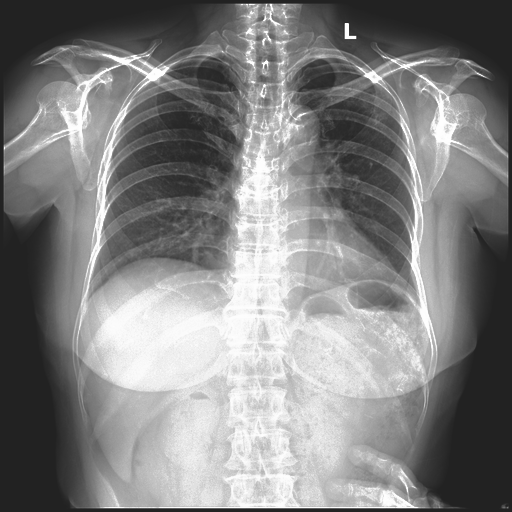Nodule/Mass: (214, 236, 401, 289)
Pneumothorax: (349, 84, 392, 128)
